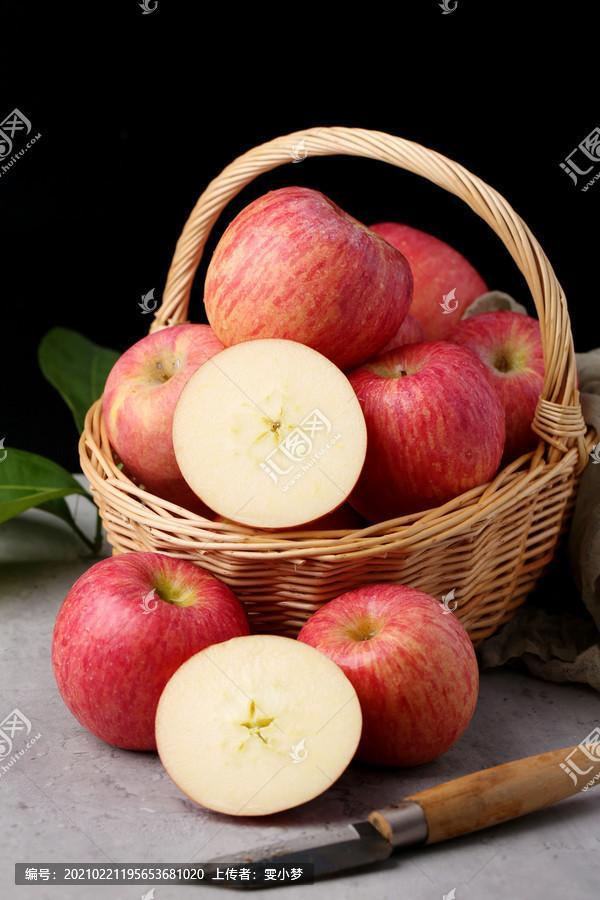apple: (50, 551, 249, 749), (156, 630, 364, 816), (204, 188, 412, 373), (173, 340, 367, 531), (297, 580, 484, 768), (347, 340, 506, 511), (96, 322, 226, 514), (446, 306, 548, 465), (366, 219, 493, 340)
